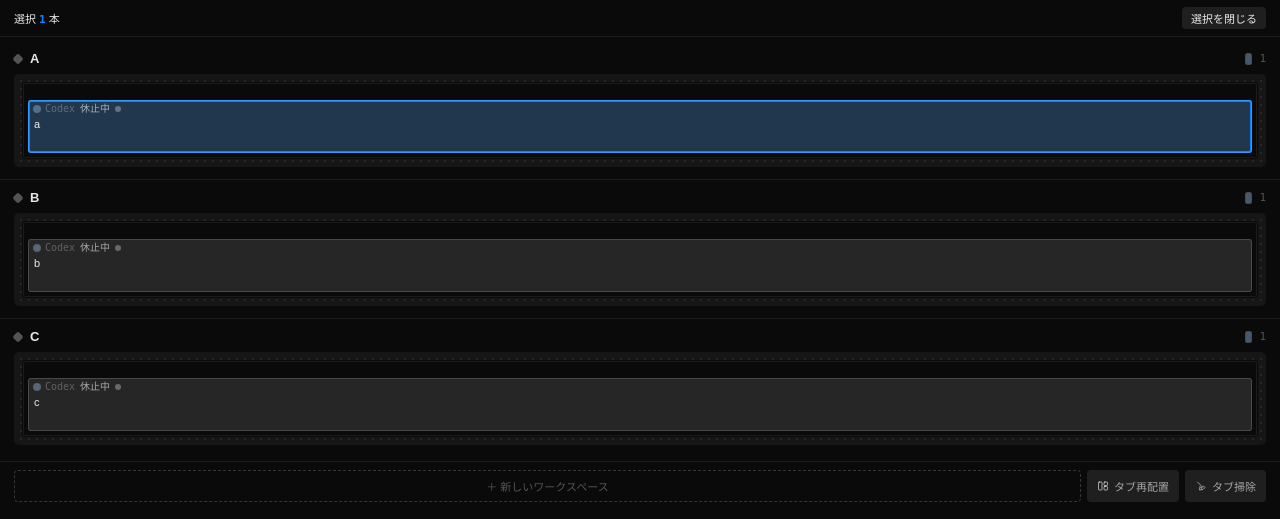
LayoutMinimapPanel › selects the exact cross-workspace group on Alt+click
This screenshot has width=1280, height=519.
Click the button "Codex 休止中 a": [60, 108] box top-left (28, 100), bottom-right (1252, 153)
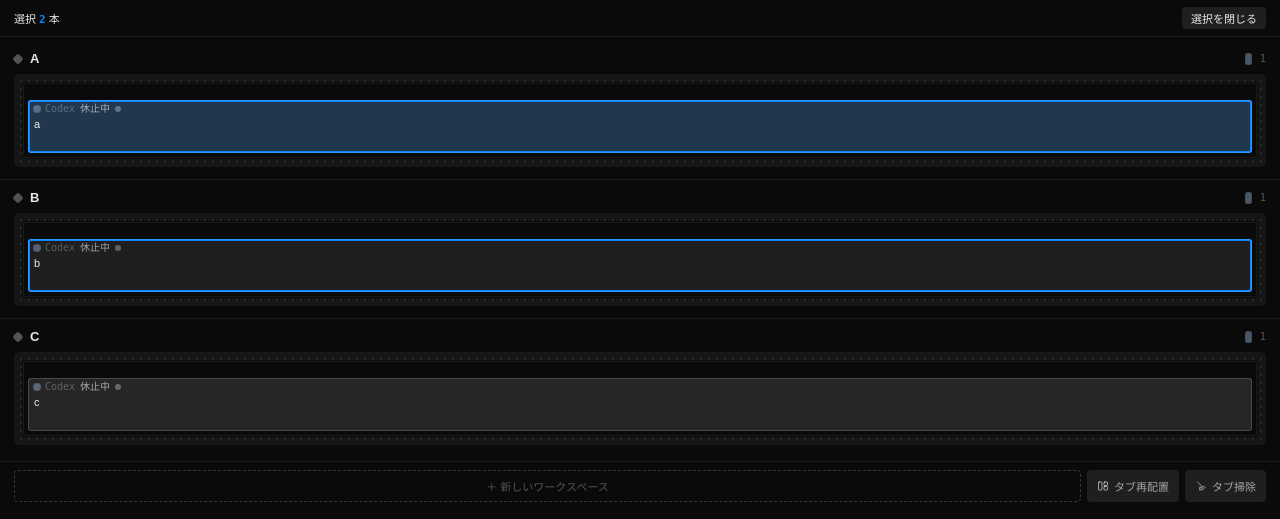
Expected: the element with class "cmux-minimap-selection-summary" shows "2本", top-left (0, 0), bottom-right (1279, 37)
